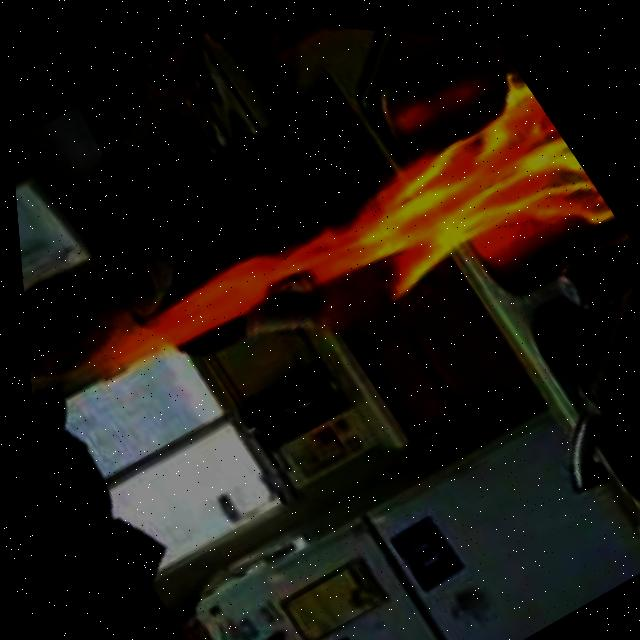Fire: (77, 45, 619, 468)
